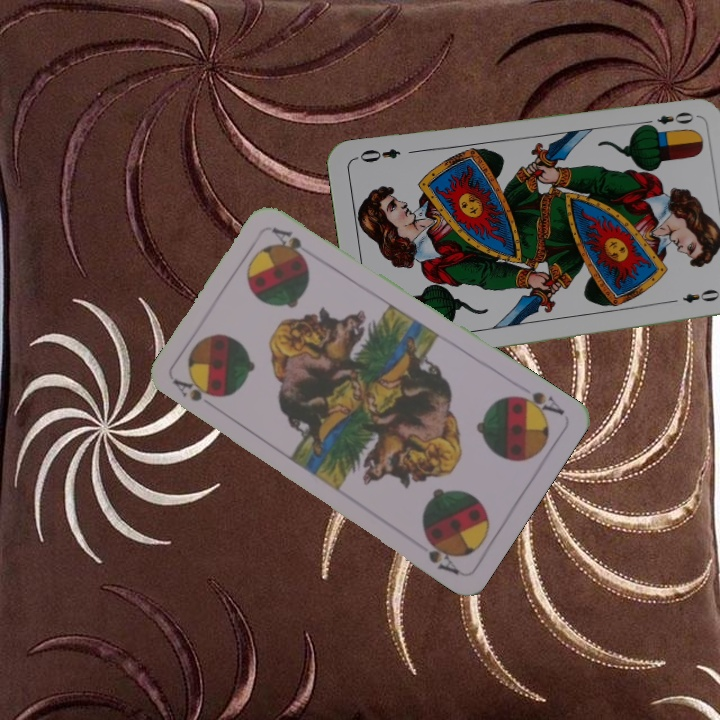EO: (639, 108, 696, 131)
SA: (508, 387, 567, 421), (170, 375, 216, 405)
